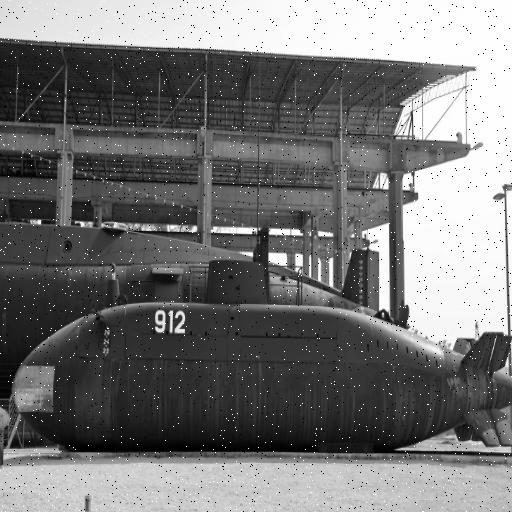submarine: (20, 303, 512, 456), (1, 222, 393, 391)
